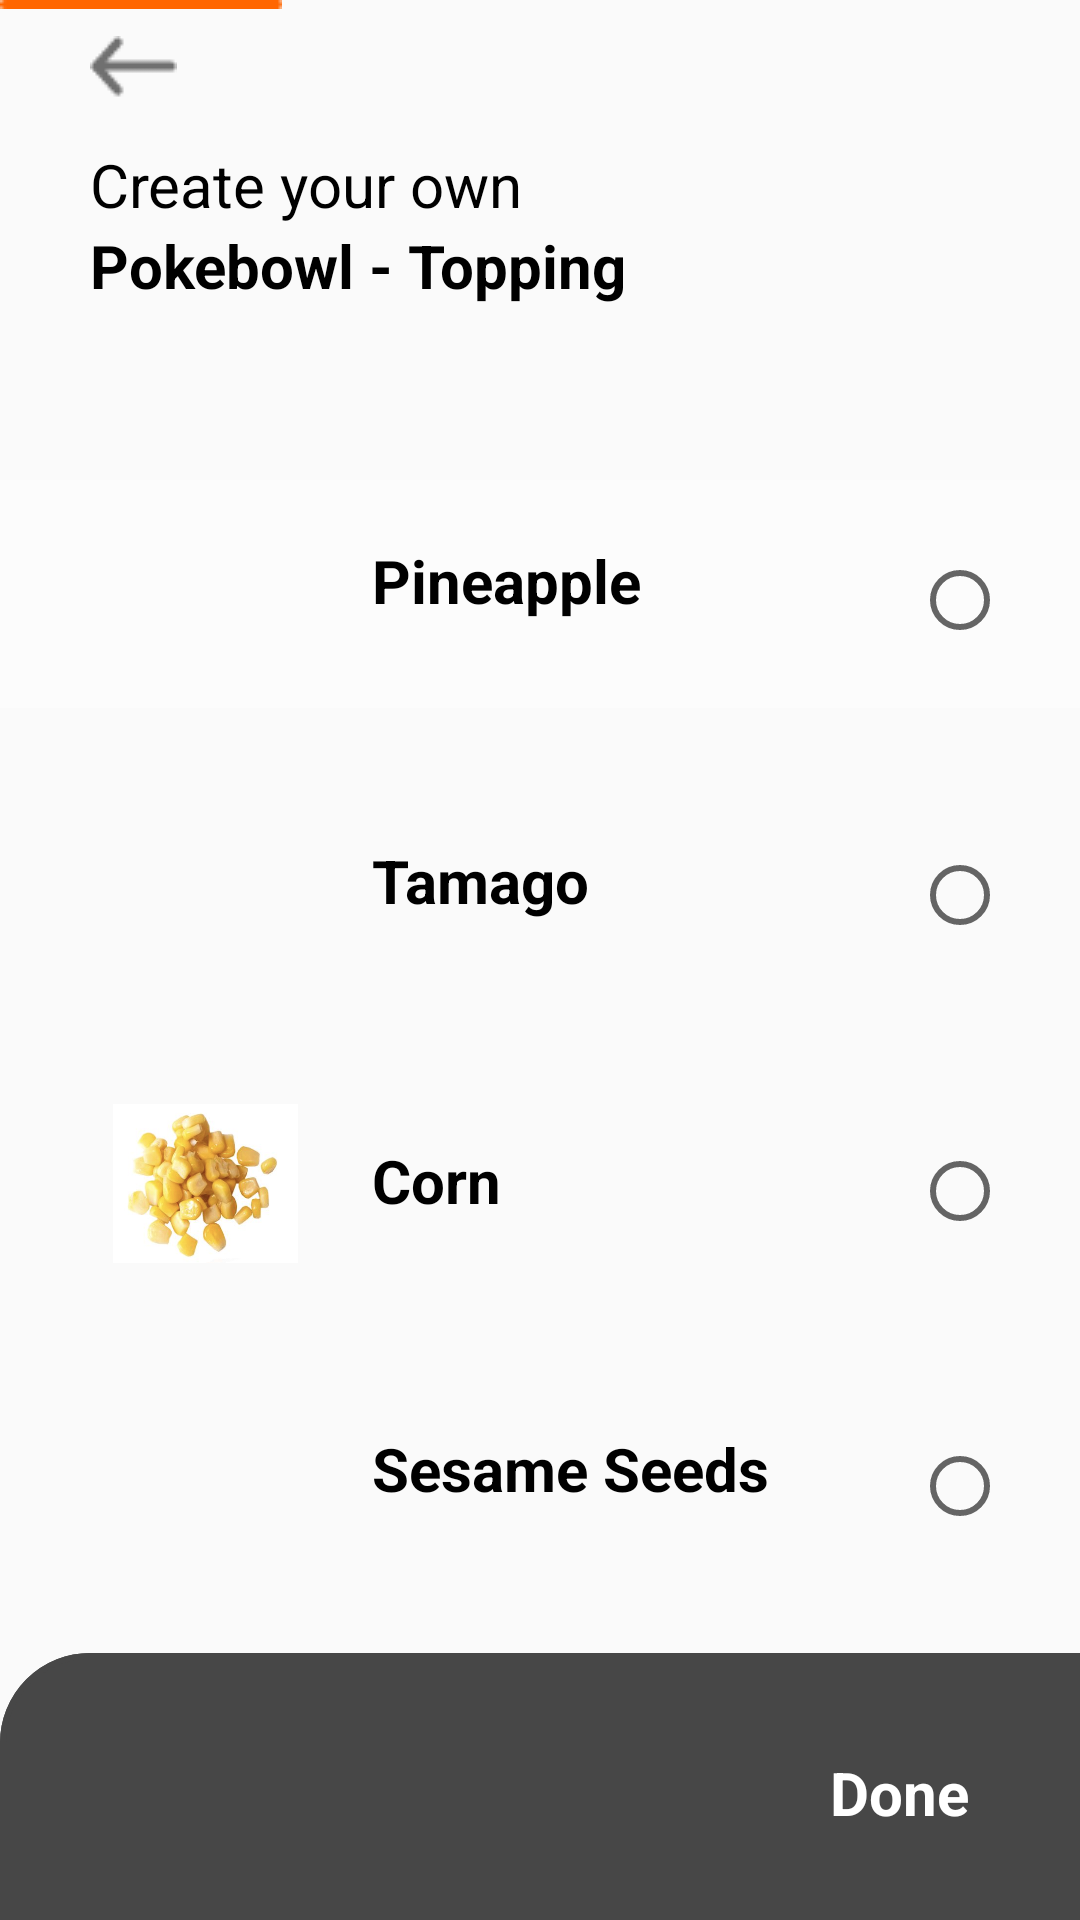

Icons on this 1080w x 1920h Android screen, each with its box as {"left": x1, "top": y1, "right": x2, "bottom": y2}:
Arrow: {"left": 90, "top": 36, "right": 177, "bottom": 97}
